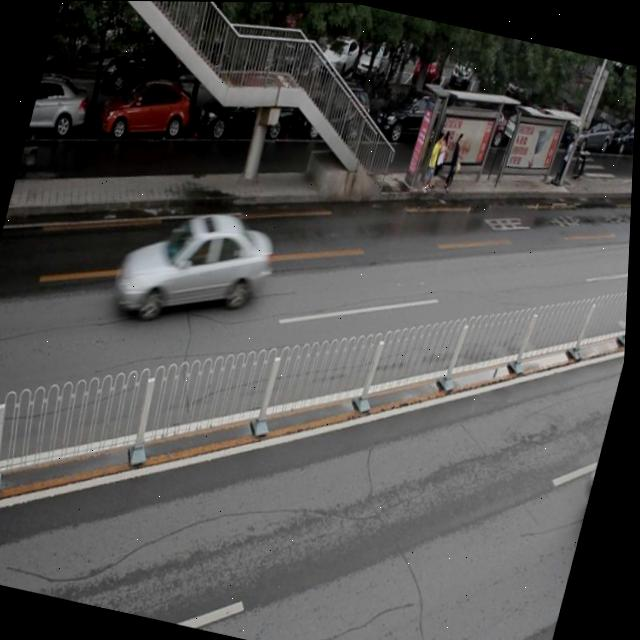car: (107, 192, 286, 343), (96, 69, 197, 150), (194, 70, 298, 148), (370, 81, 454, 153), (296, 78, 374, 149), (28, 69, 95, 143)
